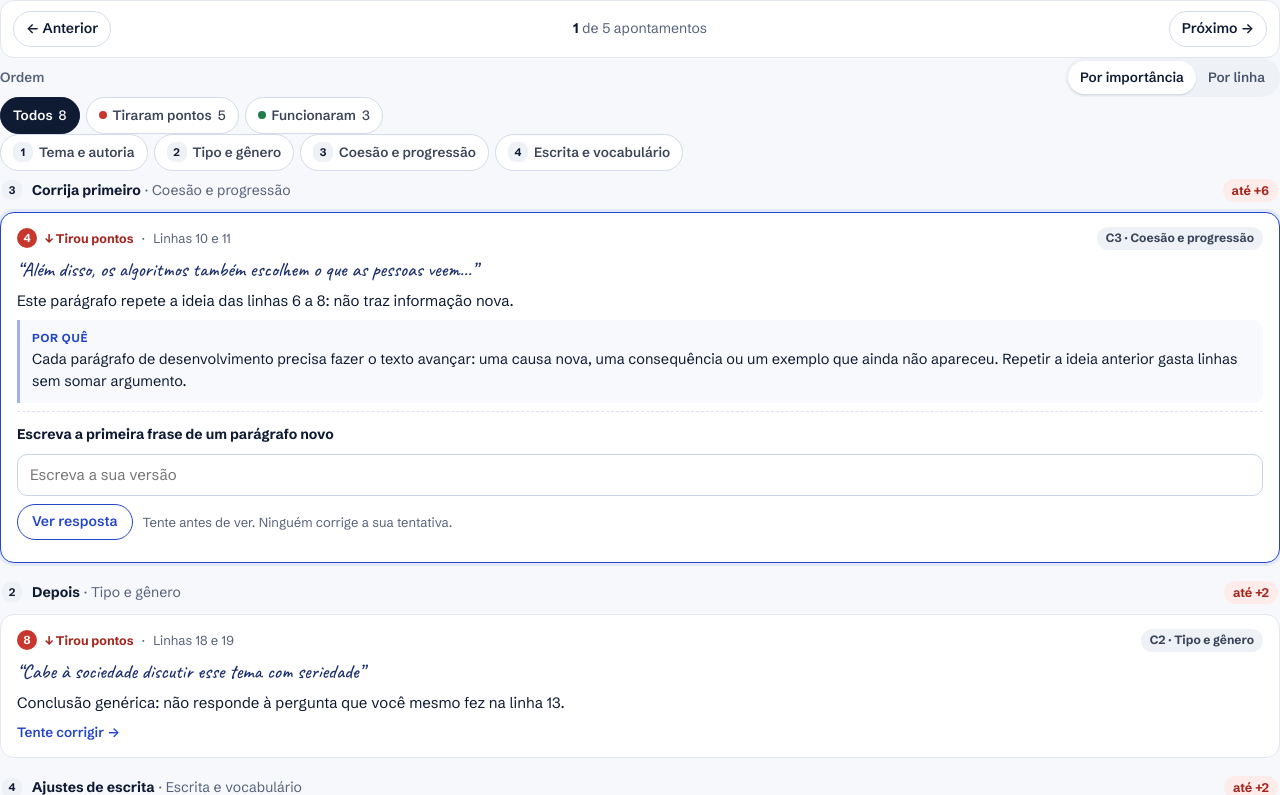
Test: AnnotationPanel › uma reescrita é "uma forma possível" e nunca é comparada
Type "Além disso, ao mostrar a cada pessoa só o que ela já pensa, os algoritmos criam bolhas de opinião que dificultam o diálogo antes de uma eleição." into the field labelled "Escreva a primeira frase de um parágrafo novo".
click(640, 475); type("Além disso, ao mostrar a cada pessoa só o que ela já pensa, os algoritmos criam bolhas de opinião que dificultam o diálogo antes de uma eleição.")  # box [17, 454, 1263, 496]
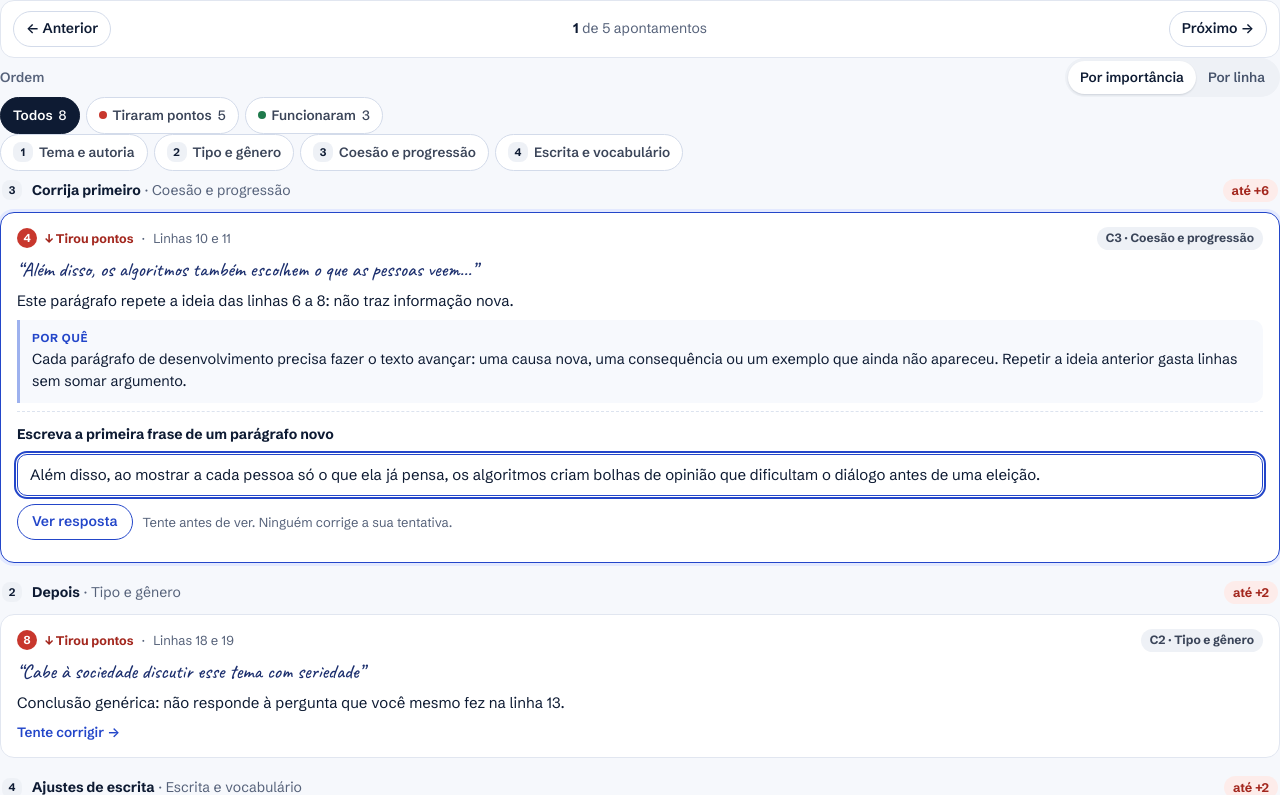
Click the button "Ver resposta".
click(75, 522)  # box [17, 504, 132, 540]
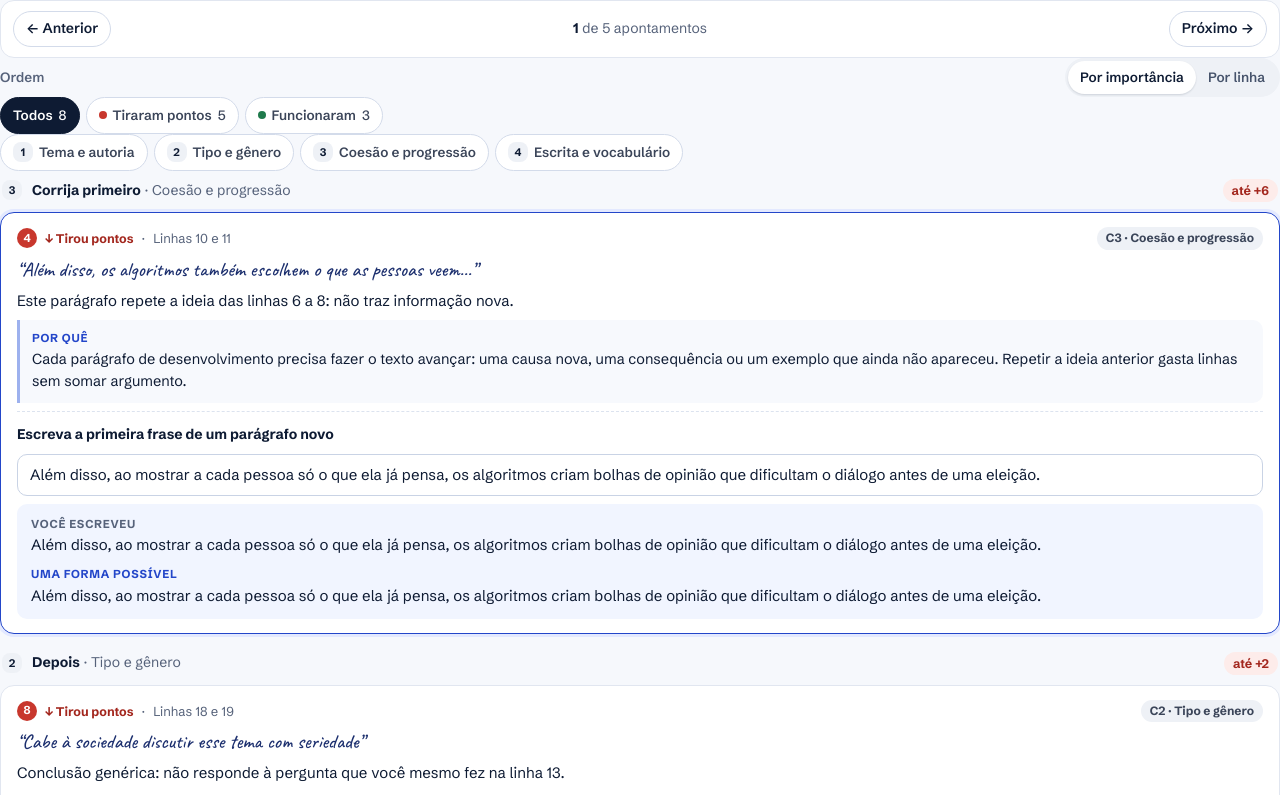
Expected: the text "Uma forma possível" is shown, [31, 567, 177, 581]
